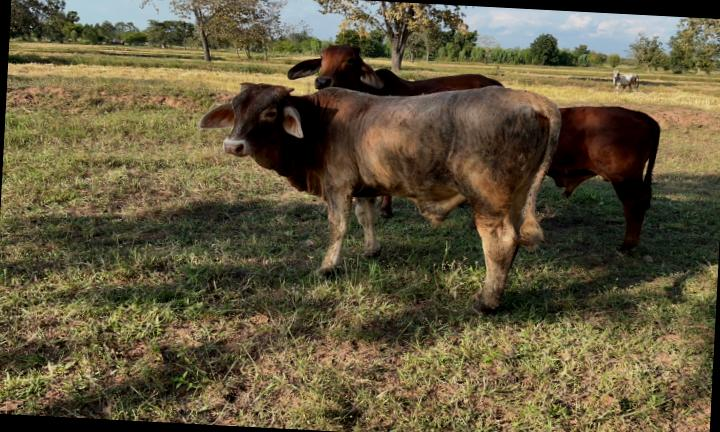Charolais: (198, 83, 560, 313)
